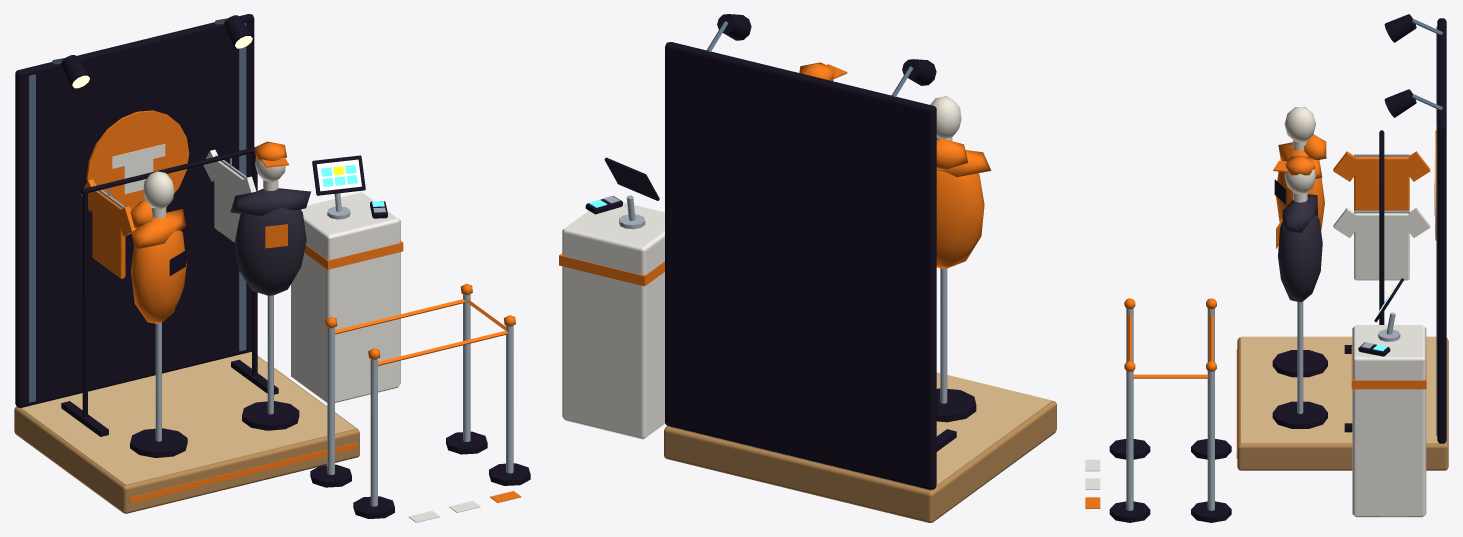
Rendered from station_special_2.glb.
3 views of the same model, side by side, from view 1: azimuth 30°, elevation 25°; view 2: azimuth 150°, elevation 25°; view 3: azimuth 270°, elevation 25° (orthographic). The views are drawn at different scales.
Parts seen in each view (by area): view 1: station_special_2; view 2: station_special_2; view 3: station_special_2.
Part boxes in pixels (bbox=[...]): station_special_2: bbox=[14, 14, 530, 522]; station_special_2: bbox=[559, 14, 1056, 522]; station_special_2: bbox=[1085, 14, 1448, 522].
Bounding box in the file's own units: 2.05 × 2.17 × 1.96.
